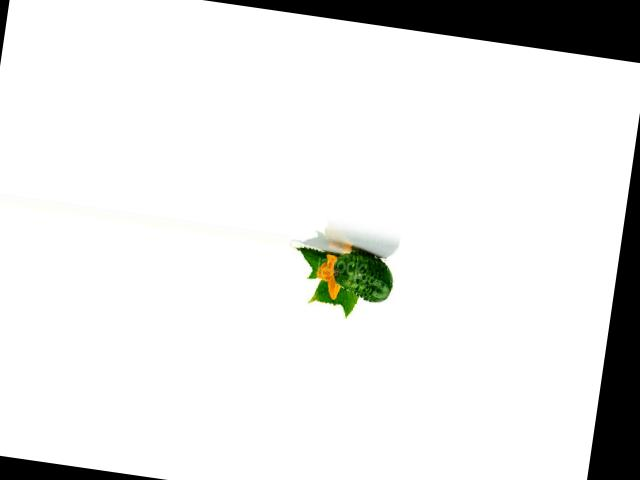cucumber: (331, 248, 397, 304)
